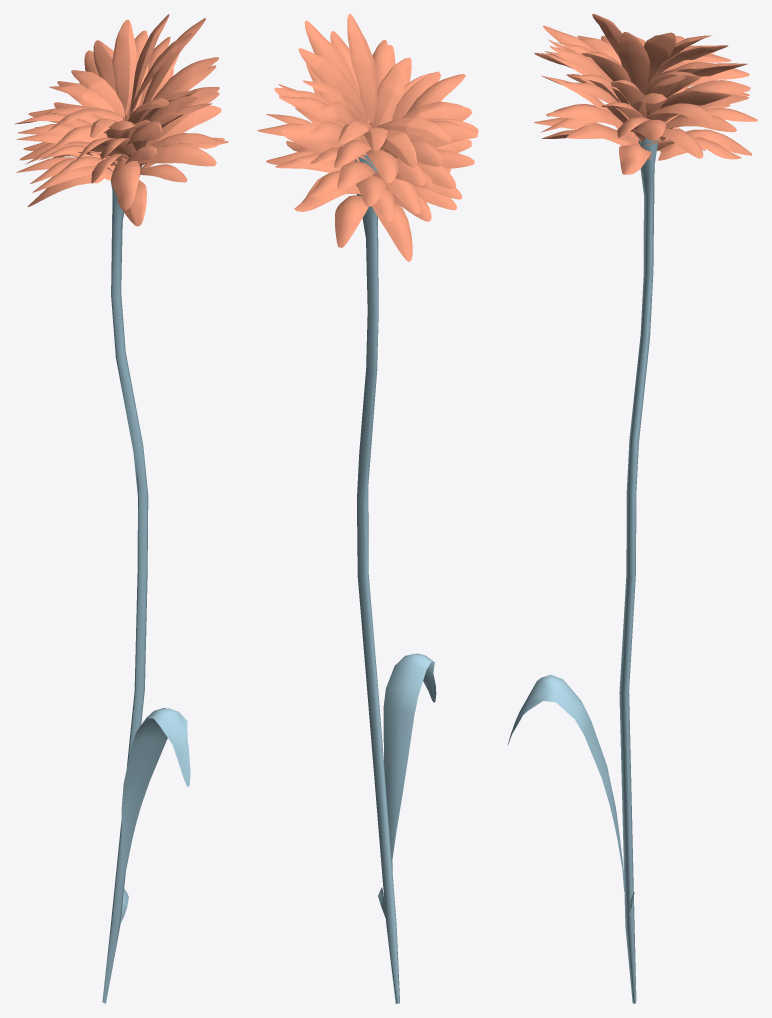
The model's file is flower3.glb.
3 renders of one model, left to right at view 1: azimuth 30°, elevation 25°; view 2: azimuth 150°, elevation 25°; view 3: azimuth 270°, elevation 25°, orthographic. The views are drawn at different scales.
Visible parts, largest first — view 1: flower, LEAF; view 2: flower, LEAF; view 3: flower, LEAF.
Part boxes in pixels (bbox=[...]): flower: bbox=[14, 14, 228, 226]; LEAF: bbox=[102, 161, 190, 1003]; flower: bbox=[257, 14, 478, 261]; LEAF: bbox=[355, 155, 436, 1003]; flower: bbox=[534, 14, 757, 174]; LEAF: bbox=[507, 138, 658, 1003].
Size of the model in its own units: 1.69 by 8.11 by 1.79.
